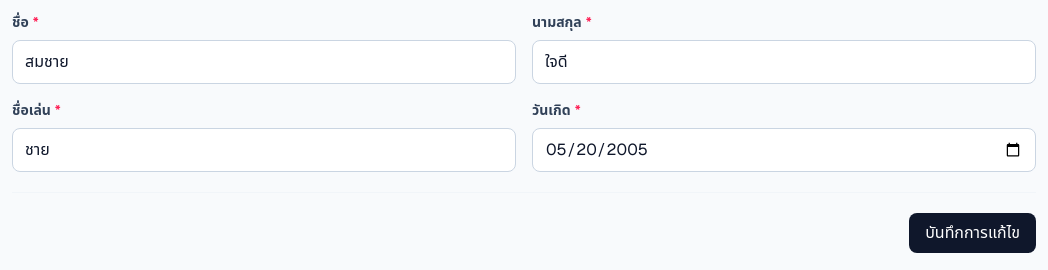
Test: StudentForm › disables duplicate submission while saving
Click the button "บันทึกการแก้ไข". click: (973, 233)
box: [909, 213, 1036, 253]
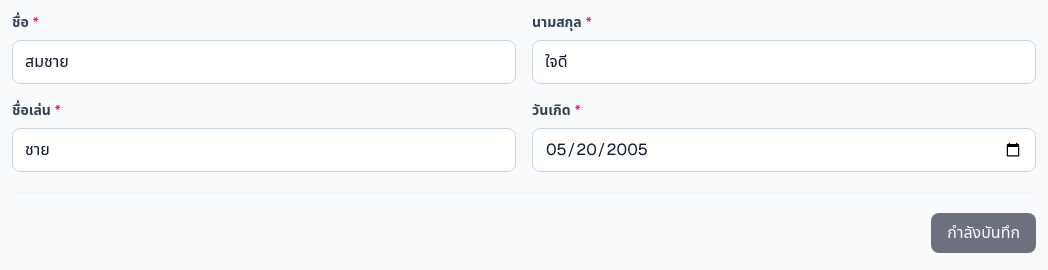
expect the button named "บันทึกการแก้ไข" is disabled: met
expect the button named "บันทึกการแก้ไข" reads "กำลังบันทึก": met
Click the button named "บันทึกการแก้ไข". click: (984, 233)
box: [931, 213, 1036, 253]
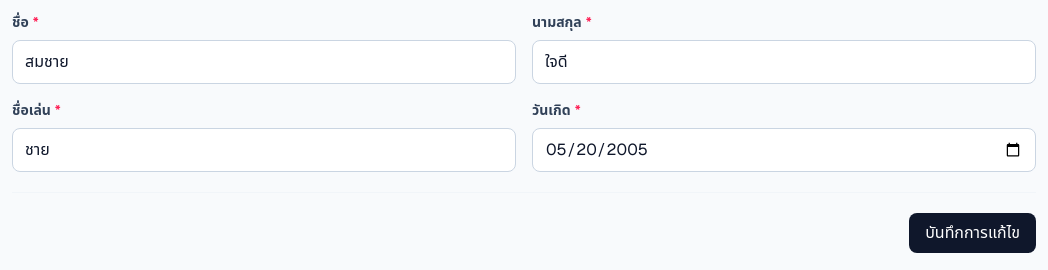
expect the button "บันทึกการแก้ไข" is enabled: met, box [909, 213, 1036, 253]
